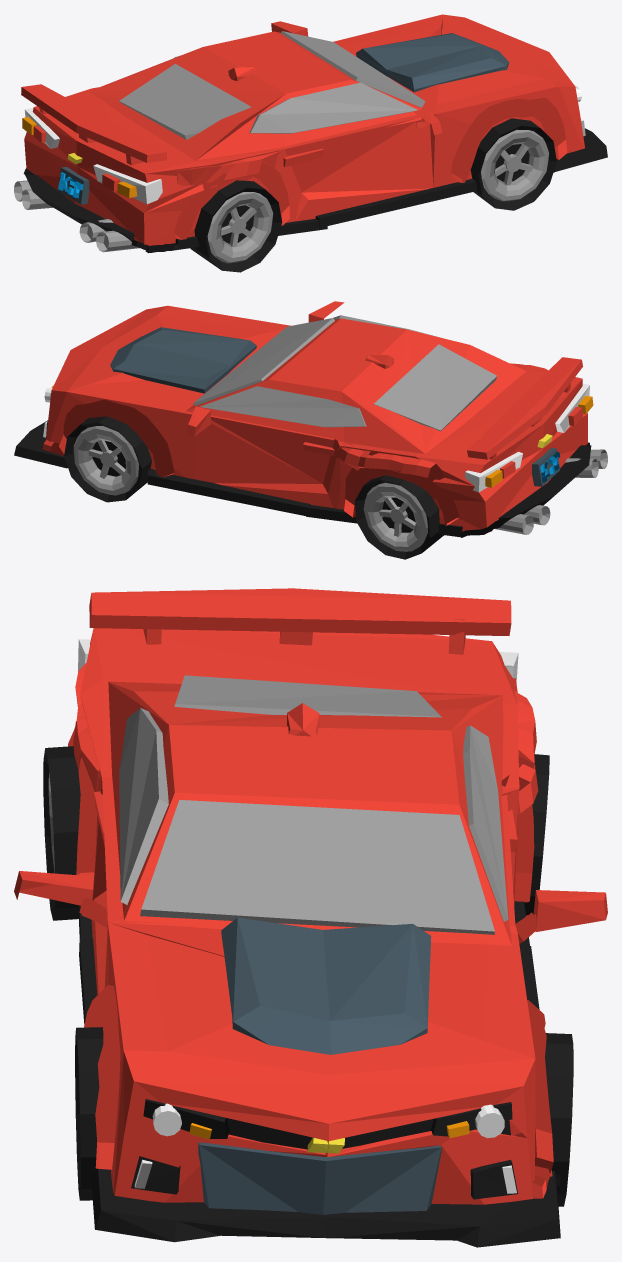
File: camaro.gltf
3 renders of one model, top to bottom at view 1: azimuth 30°, elevation 25°; view 2: azimuth 150°, elevation 25°; view 3: azimuth 270°, elevation 25°, orthographic. The views are drawn at different scales.
Parts seen in each view (by area): view 1: Node; view 2: Node; view 3: Node.
Part boxes in pixels (bbox=[...]): Node: bbox=[14, 14, 607, 272]; Node: bbox=[14, 301, 607, 559]; Node: bbox=[14, 588, 607, 1247].
Bounding box in the file's own units: 1.54 × 0.4454 × 0.8242.
